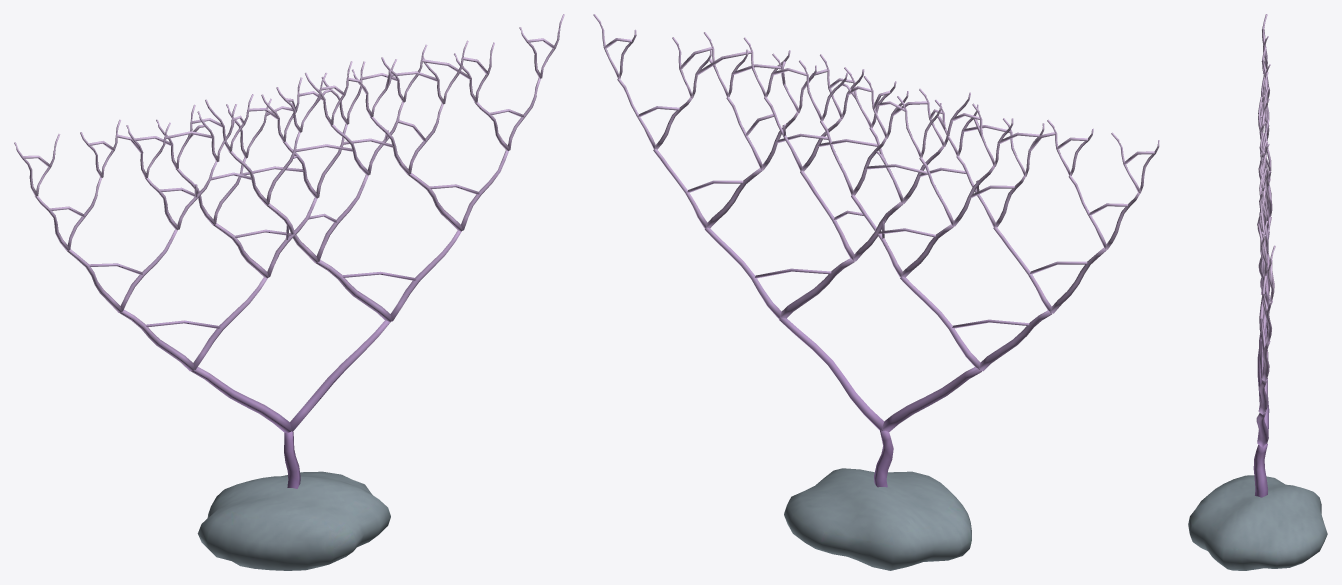
The model's file is fan_coral.glb.
3 renders of one model, left to right at view 1: azimuth 30°, elevation 25°; view 2: azimuth 150°, elevation 25°; view 3: azimuth 270°, elevation 25°, orthographic. The views are drawn at different scales.
Visible parts, largest first — view 1: 21 Fan Coral; view 2: 21 Fan Coral; view 3: 21 Fan Coral.
Part boxes in pixels (<box>): 21 Fan Coral: <box>14,14,564,570</box>; 21 Fan Coral: <box>593,14,1159,570</box>; 21 Fan Coral: <box>1188,14,1327,570</box>.
Size of the model in its own units: 2.24 by 1.85 by 0.5533.
Materials: 2 (2 with a texture image).
